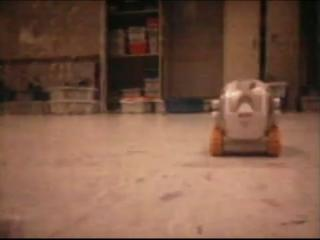cozmo: (207, 77, 286, 158)
